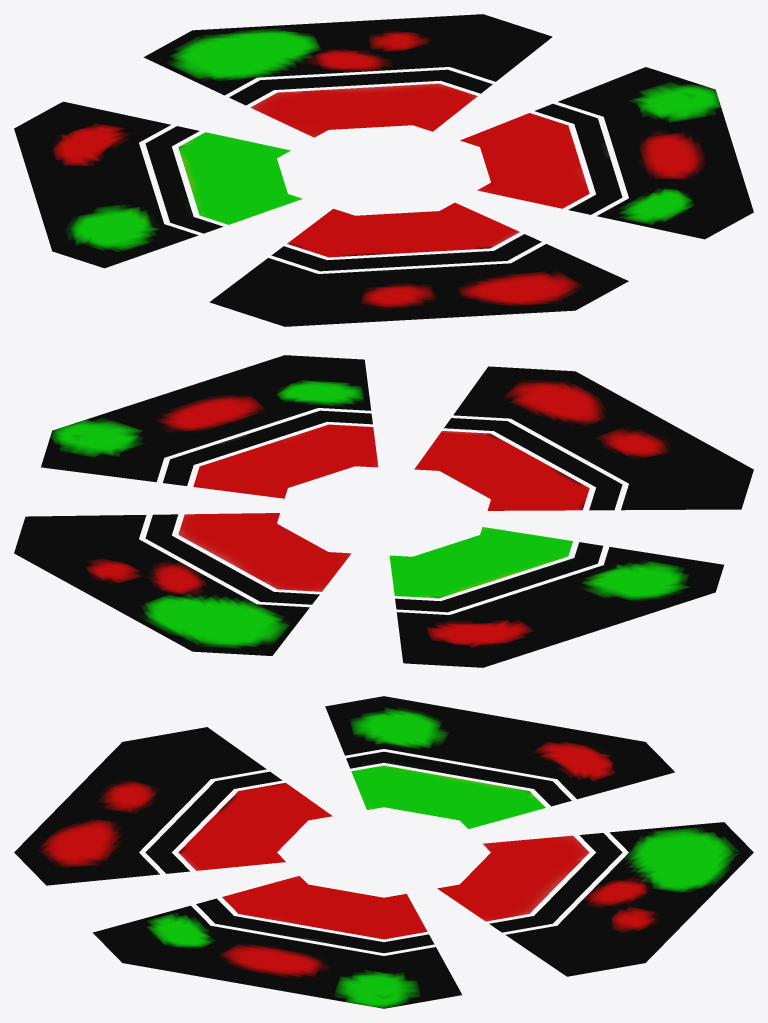
File: GrassMaskVertexP.fbx
3 renders of one model, top to bottom at view 1: azimuth 30°, elevation 25°; view 2: azimuth 150°, elevation 25°; view 3: azimuth 270°, elevation 25°, orthographic. The views are drawn at different scales.
Parts seen in each view (by area): view 1: GrassMask; view 2: GrassMask; view 3: GrassMask.
Part boxes in pixels (box(x1,y1,x2,y2)): GrassMask: box(14, 14, 753, 326); GrassMask: box(14, 355, 753, 667); GrassMask: box(14, 696, 753, 1008).
Size of the model in its own units: 1625 by 0 by 1625.
